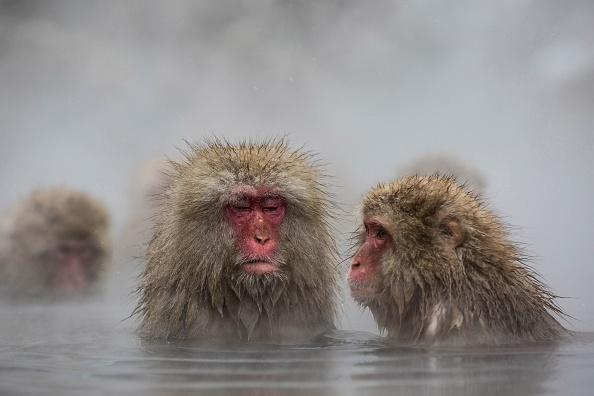monkey: (136, 137, 569, 349)
